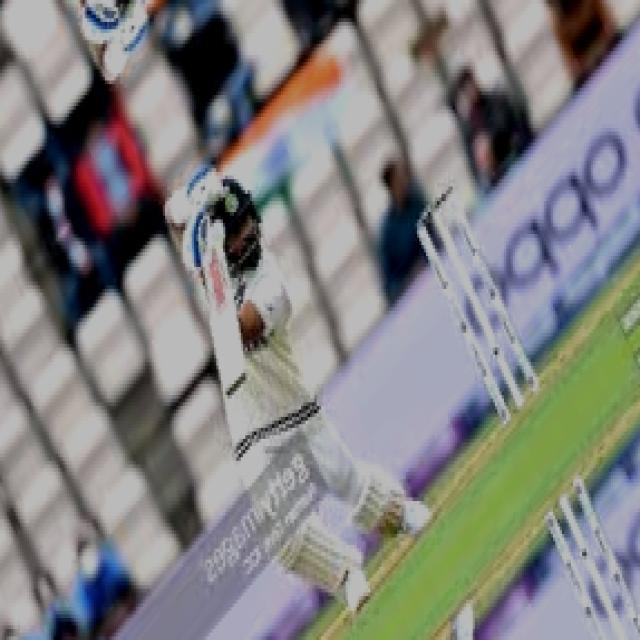toe: (216, 354, 253, 402)
